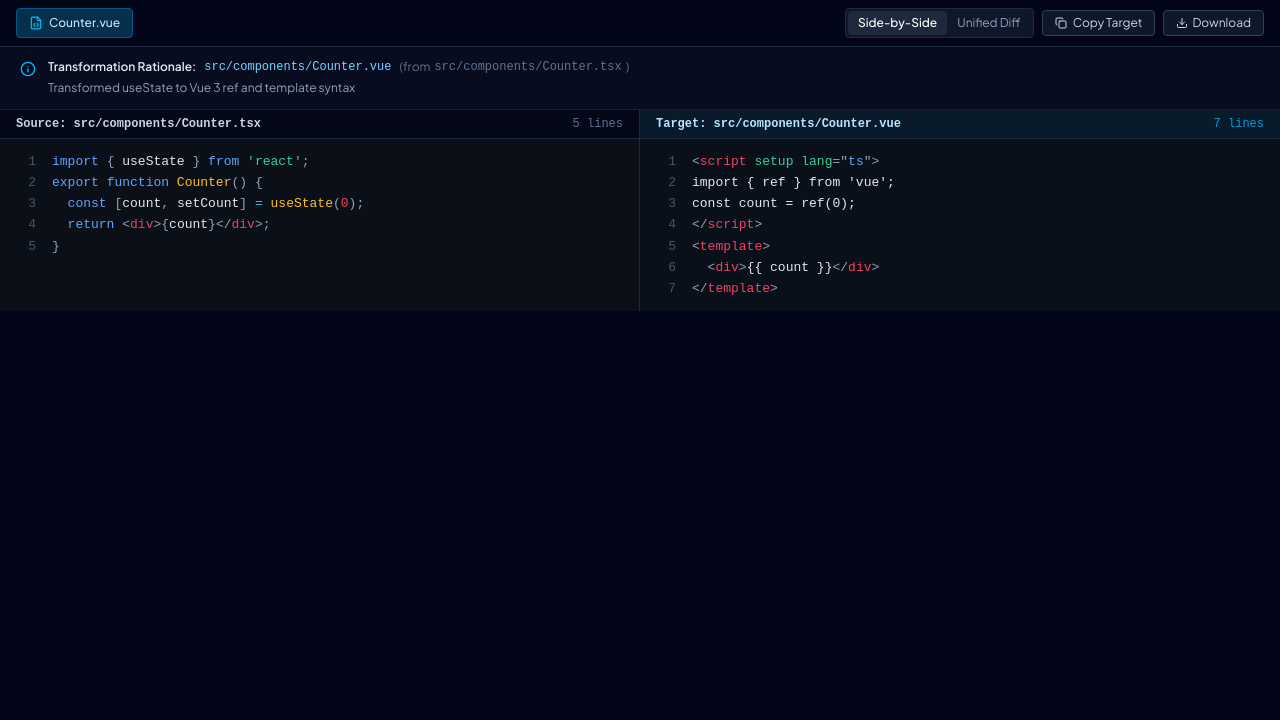
Test case: DiffViewer Component › toggles to Unified Diff mode
Click the button "Unified Diff". click: (989, 23)
box: x1=947 y1=11 x2=1031 y2=35
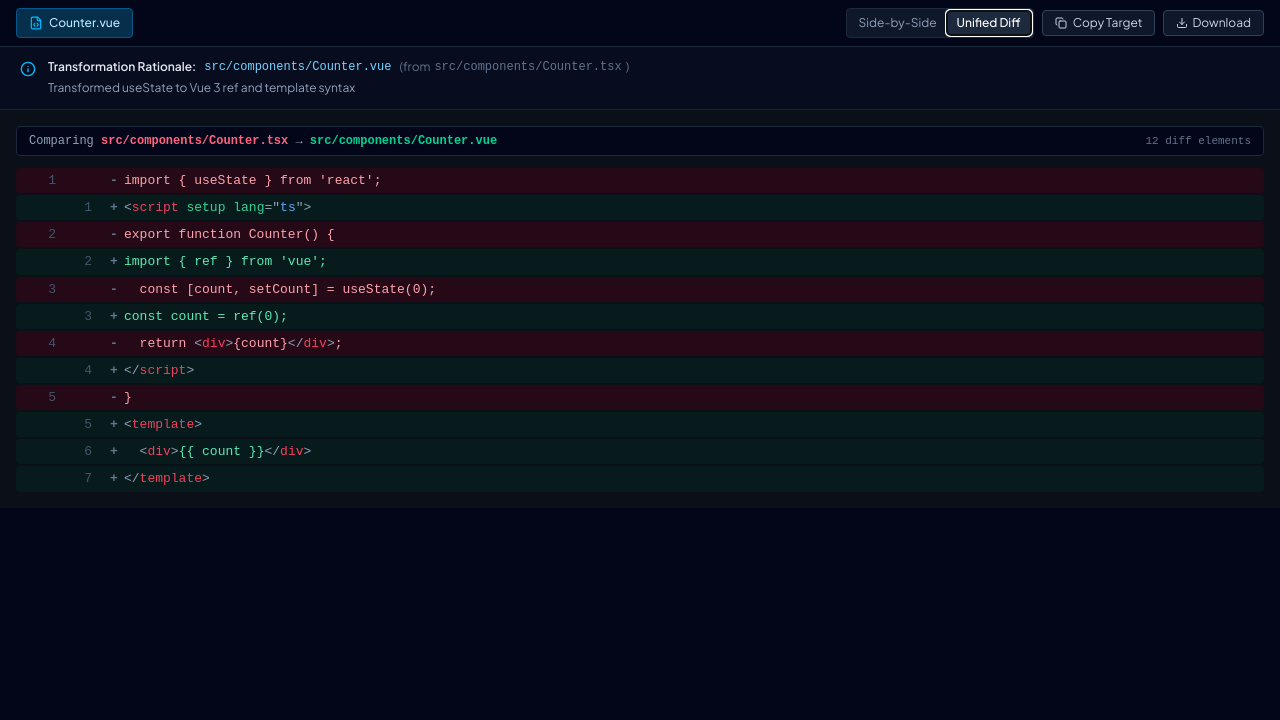
Expected: the text "src/components/Counter.vue" next to "Transformation Rationale:" is shown, x1=204 y1=60 x2=391 y2=74
Expected: the text "Comparing" is shown, x1=29 y1=134 x2=101 y2=148
